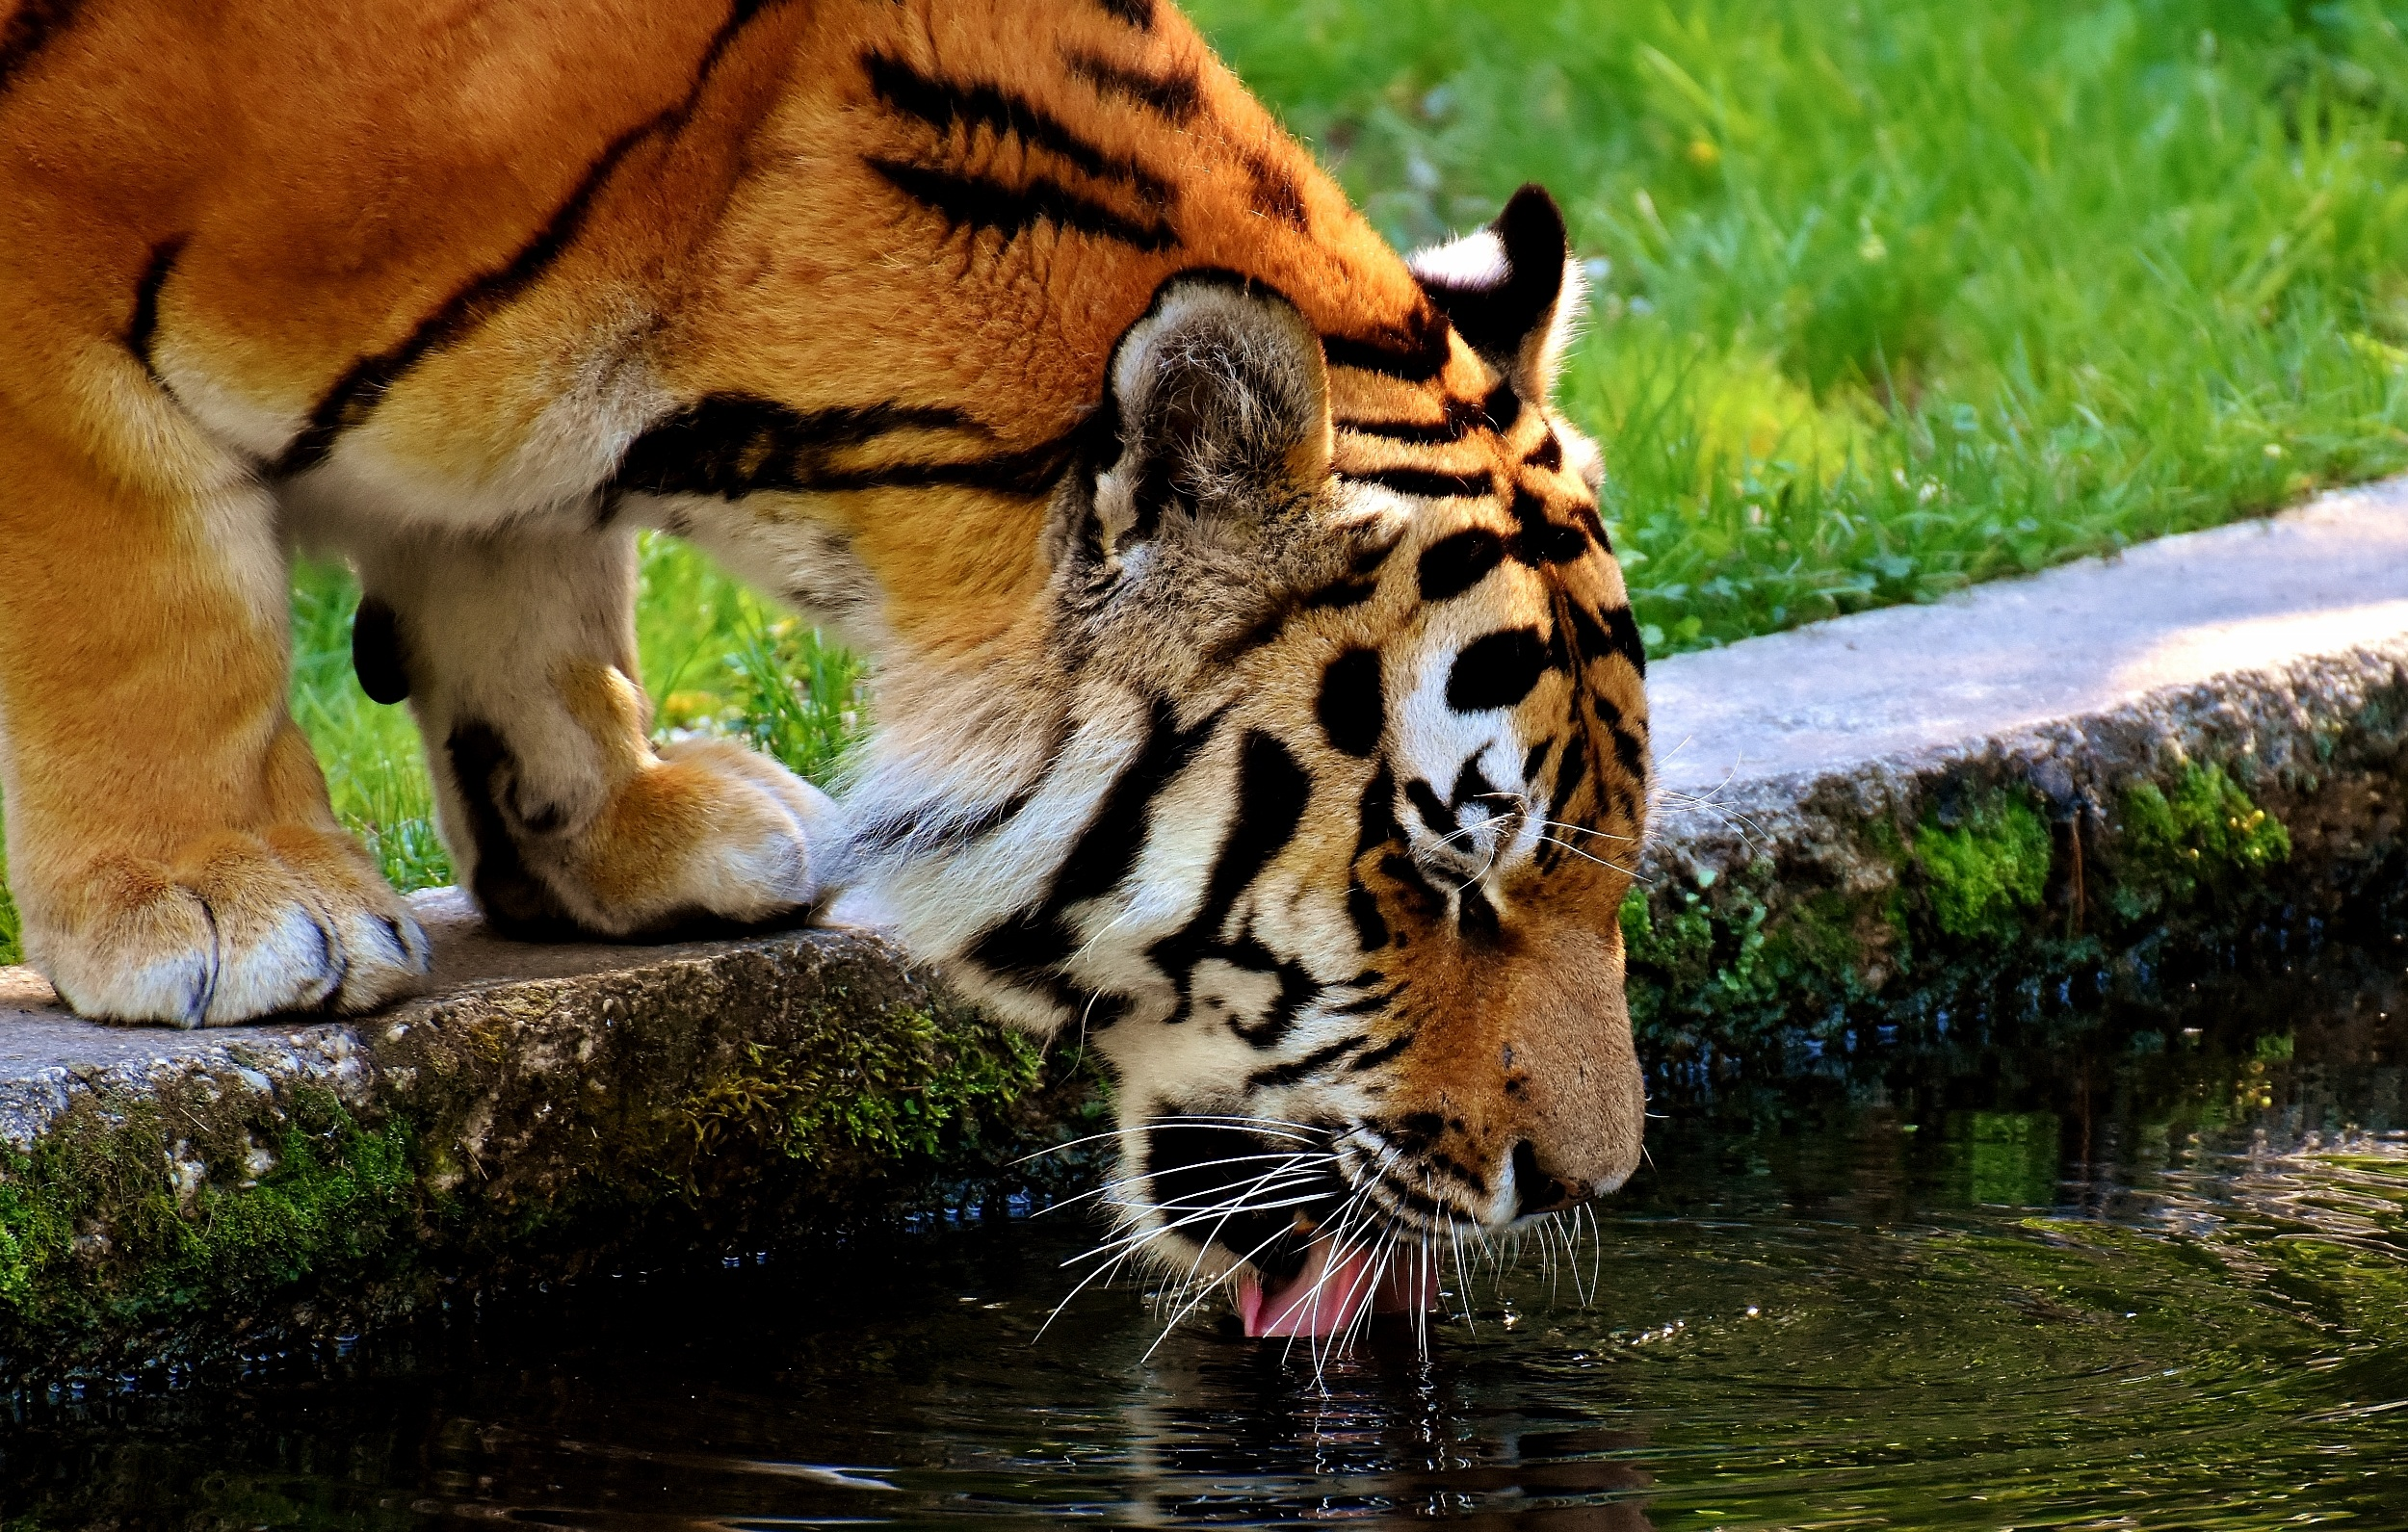tiger: (2, 2, 1729, 1248)
